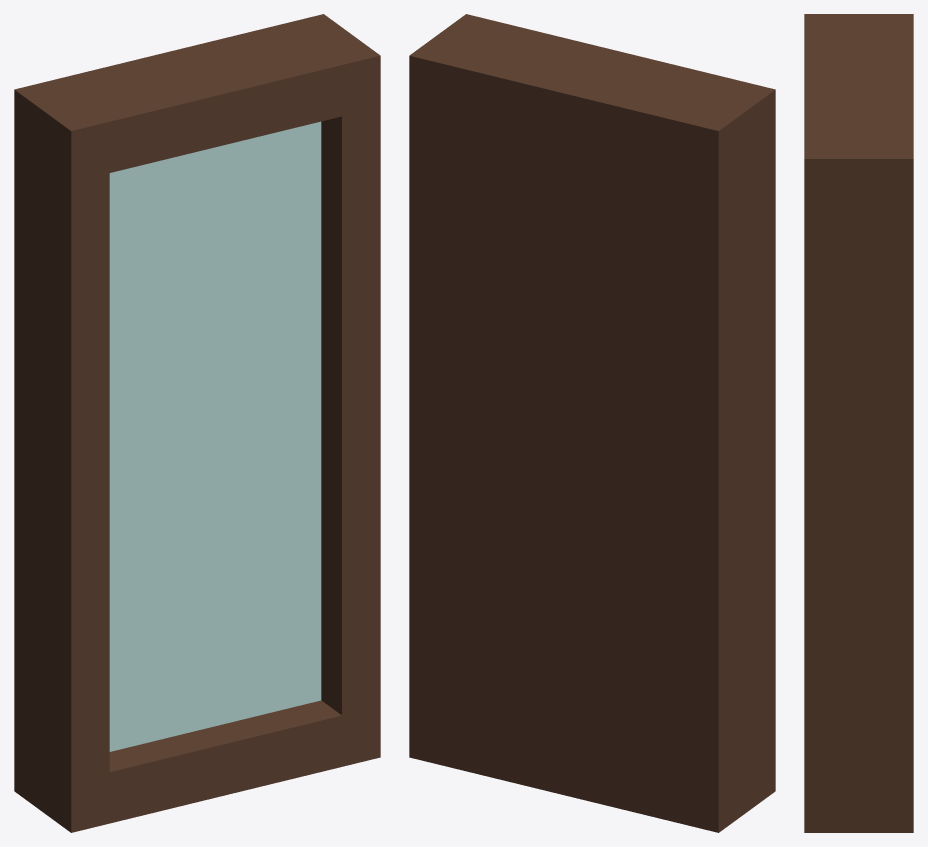
Rendered from WindowSquare.glb.
3 views of the same model, side by side, from view 1: azimuth 30°, elevation 25°; view 2: azimuth 150°, elevation 25°; view 3: azimuth 270°, elevation 25° (orthographic). The views are drawn at different scales.
Parts seen in each view (by area): view 1: WindowSquare; view 2: WindowSquare; view 3: WindowSquare.
Boxes of the visible parts, bbox=[...] form: WindowSquare: bbox=[14, 14, 380, 832]; WindowSquare: bbox=[409, 14, 775, 832]; WindowSquare: bbox=[804, 14, 913, 832].
Bounding box in the file's own units: 0.1553 × 0.3364 × 0.0495.
